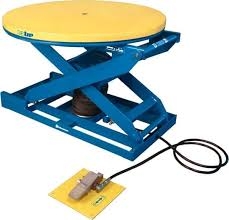Scissor Lift: (1, 1, 229, 217)
